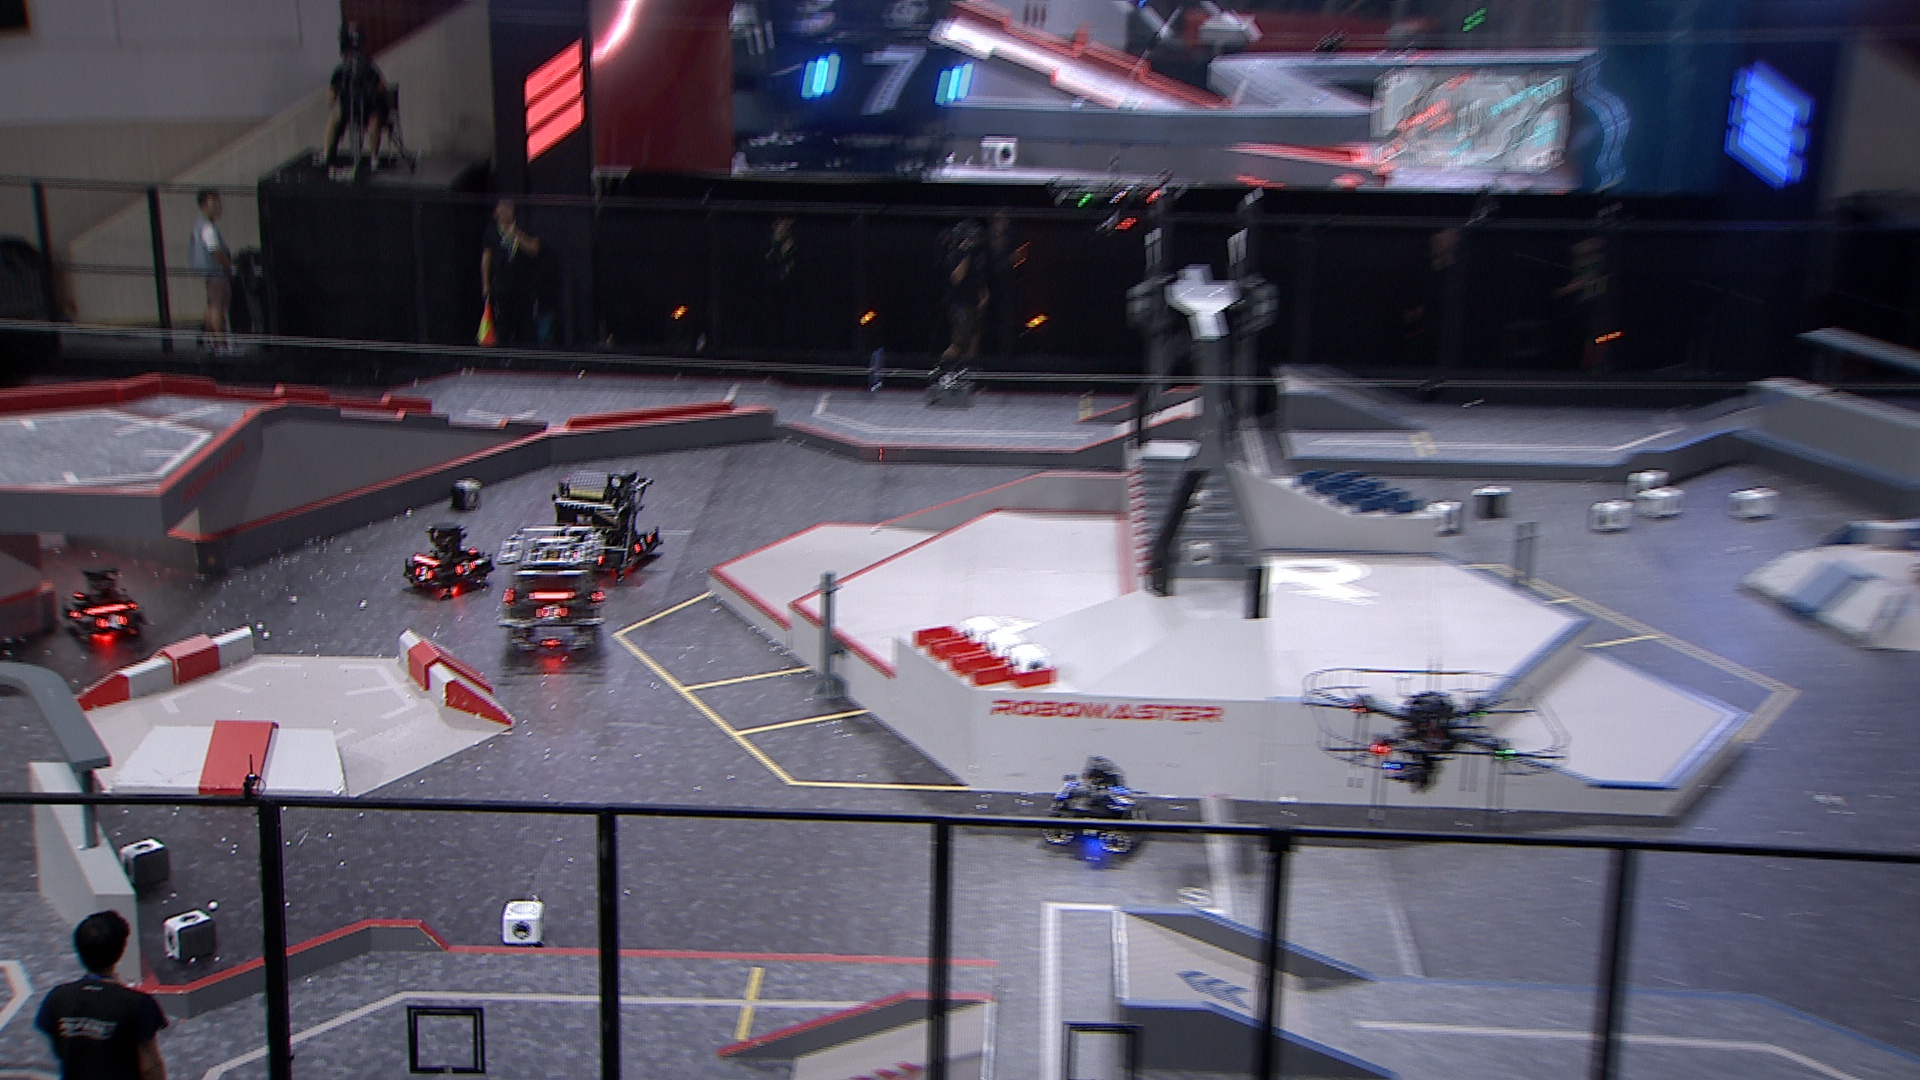armor: (533, 603, 568, 624), (98, 613, 129, 632), (629, 534, 655, 553), (1106, 793, 1135, 808), (451, 559, 476, 576), (1130, 807, 1153, 825), (414, 566, 436, 584)
car: (496, 524, 608, 655), (549, 467, 665, 578), (1038, 754, 1159, 856), (400, 522, 498, 597), (59, 562, 146, 645)
